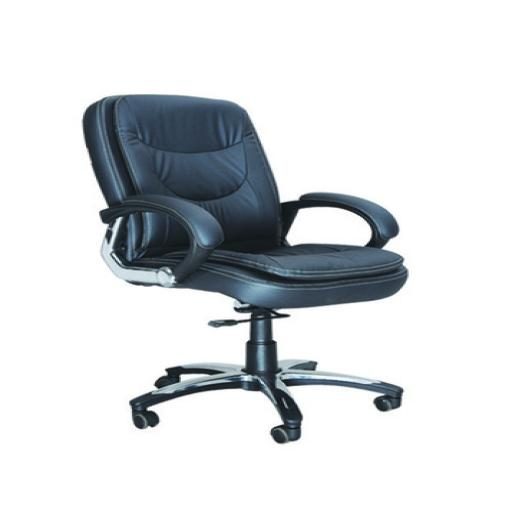chair: (42, 86, 438, 467)
